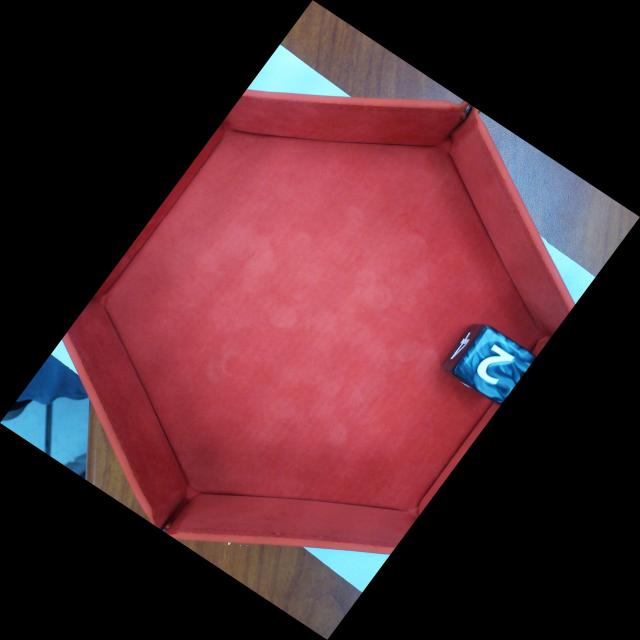dice: (457, 331, 535, 405)
